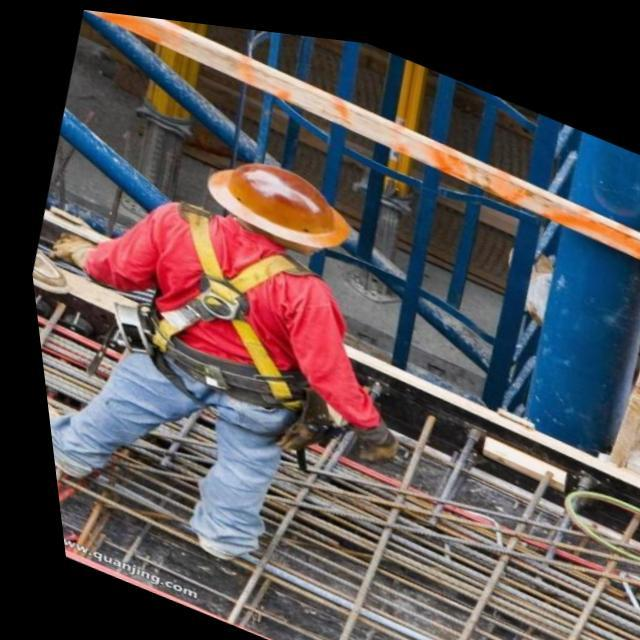belt: (87, 268, 326, 466)
